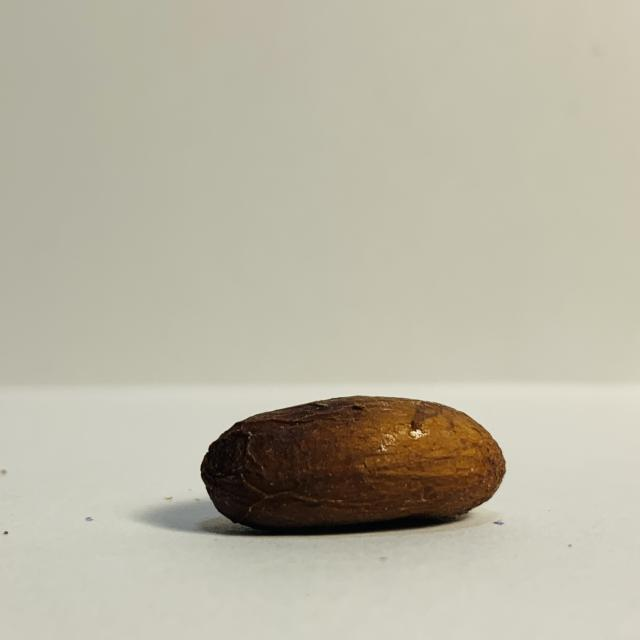Fine_cocoabeans: (88, 367, 542, 560)
